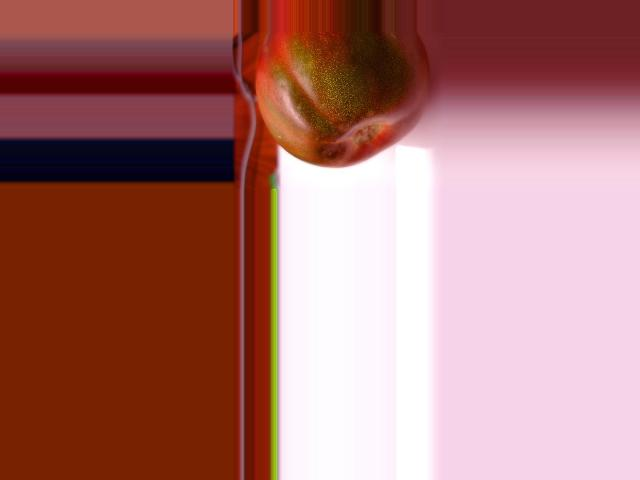tomato: (254, 31, 428, 167)
